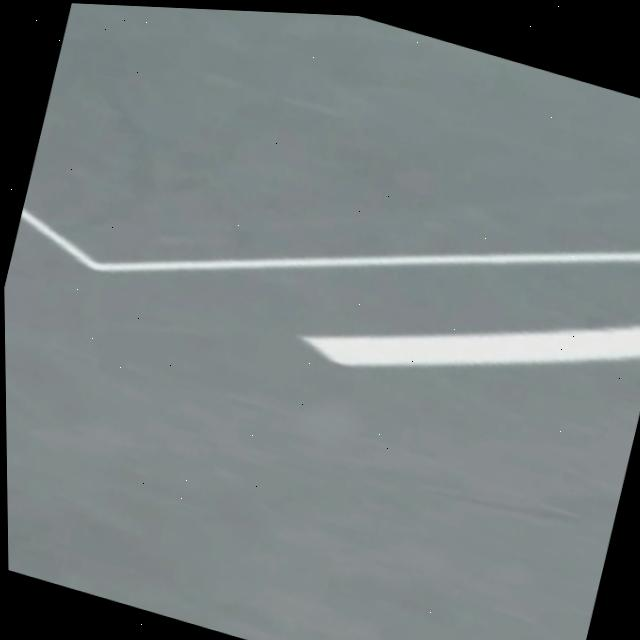center: (302, 326, 640, 365)
